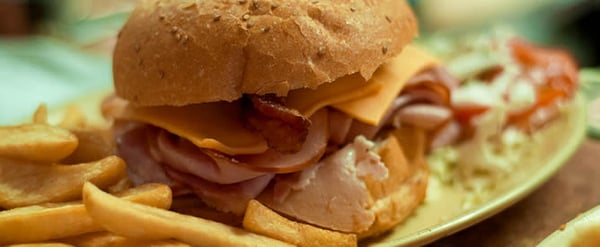soup: (99, 1, 425, 227)
